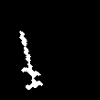double_crochet: (20, 31, 42, 89)
